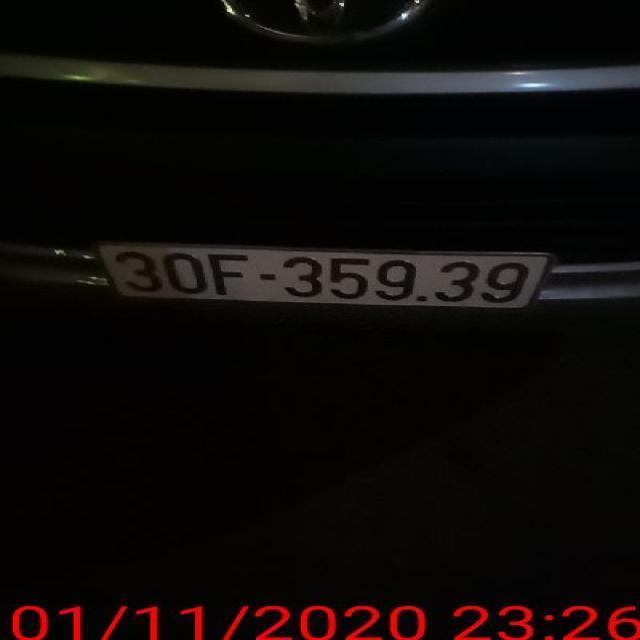bien_so_oto: (90, 237, 556, 317)
